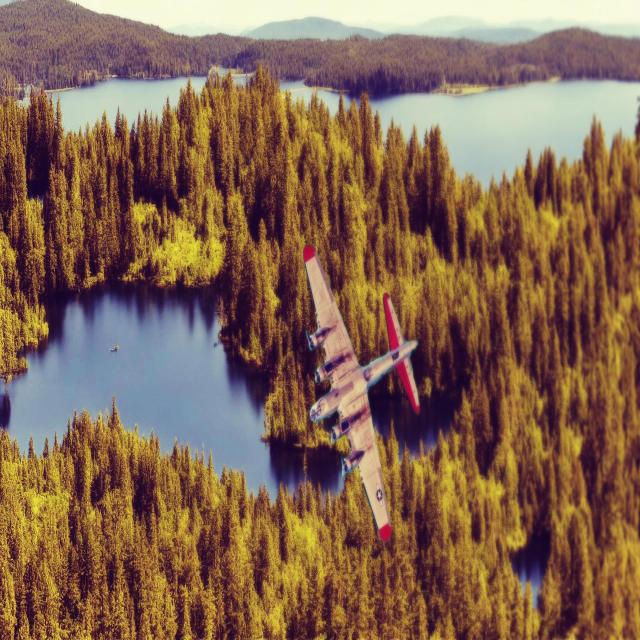airplane: (302, 244, 420, 542)
